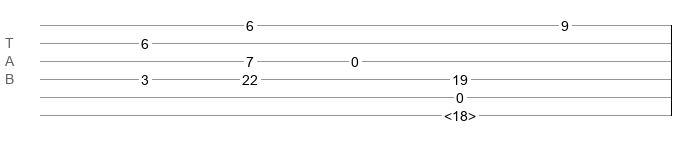0: (351, 54, 359, 64), (456, 90, 464, 100)
19: (452, 72, 468, 82)
22: (242, 72, 258, 82)
3: (141, 72, 149, 82)
6: (141, 36, 149, 46), (246, 18, 254, 28)
7: (246, 54, 254, 64)
9: (561, 18, 569, 28)
harmonic: (444, 108, 476, 118)
